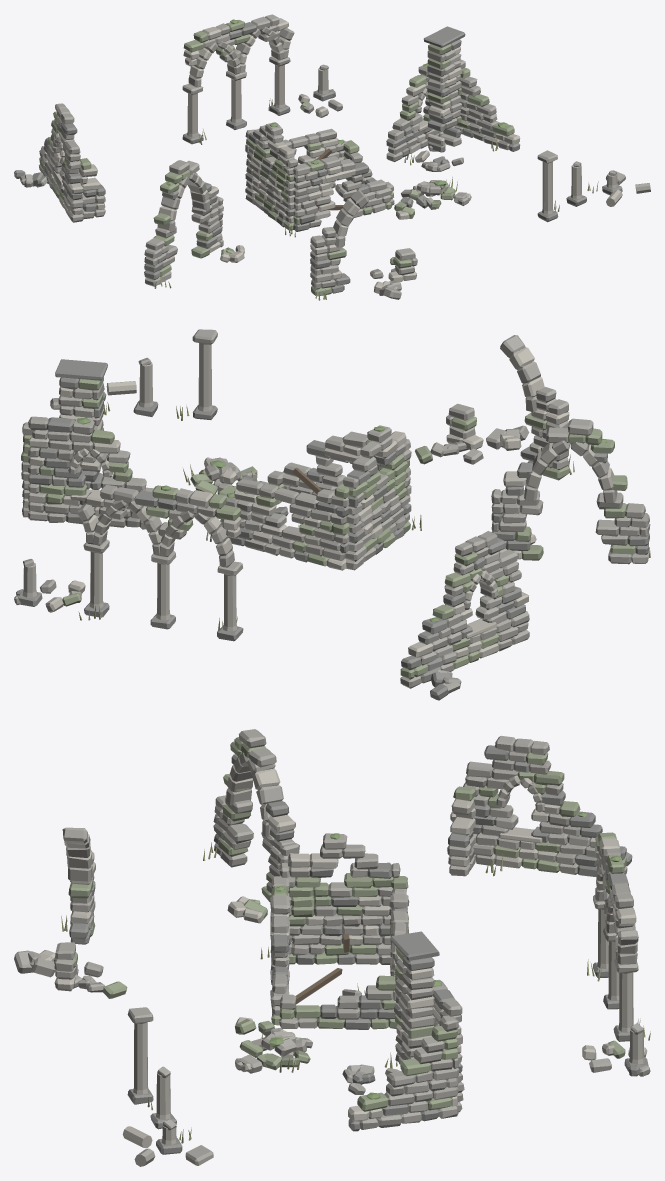
The model's file is Ruins_Scene.fbx.
The picture shows the model from 3 angles, top to bottom: view 1: azimuth 30°, elevation 25°; view 2: azimuth 150°, elevation 25°; view 3: azimuth 270°, elevation 25°; orthographic projection. The views are drawn at different scales.
Visible parts, largest first — view 1: Ruin_House_A, Ruin_House_B, Ruin_Arcade, Ruin_Arch_Gate, Ruin_Wall_Window, Ruin_Arch_Broken, Ruin_Columns, Ruin_Rubble; view 2: Ruin_House_A, Ruin_Arcade, Ruin_House_B, Ruin_Wall_Window, Ruin_Arch_Gate, Ruin_Arch_Broken, Ruin_Columns, Ruin_Rubble; view 3: Ruin_House_A, Ruin_Wall_Window, Ruin_House_B, Ruin_Arch_Gate, Ruin_Arcade, Ruin_Arch_Broken, Ruin_Columns, Ruin_Rubble.
Part boxes in pixels (left/top/right/bottom): Ruin_House_A: left=245, top=122, right=414, bottom=237; Ruin_House_B: left=386, top=26, right=520, bottom=171; Ruin_Arcade: left=182, top=14, right=342, bottom=144; Ruin_Arch_Gate: left=144, top=160, right=244, bottom=288; Ruin_Wall_Window: left=14, top=103, right=105, bottom=222; Ruin_Arch_Broken: left=310, top=190, right=417, bottom=300; Ruin_Columns: left=537, top=150, right=650, bottom=222; Ruin_Rubble: left=401, top=177, right=471, bottom=209; Ruin_House_A: left=206, top=425, right=421, bottom=570; Ruin_Arcade: left=14, top=484, right=243, bottom=641; Ruin_House_B: left=21, top=359, right=153, bottom=529; Ruin_Wall_Window: left=400, top=531, right=529, bottom=700; Ruin_Arch_Gate: left=491, top=418, right=650, bottom=564; Ruin_Arch_Broken: left=415, top=335, right=574, bottom=480; Ruin_Columns: left=50, top=329, right=217, bottom=420; Ruin_Rubble: left=183, top=457, right=257, bottom=494; Ruin_House_A: left=235, top=833, right=409, bottom=1036; Ruin_Wall_Window: left=447, top=735, right=632, bottom=877; Ruin_House_B: left=342, top=931, right=464, bottom=1131; Ruin_Arch_Gate: left=203, top=729, right=299, bottom=923; Ruin_Arcade: left=582, top=832, right=650, bottom=1076; Ruin_Arch_Broken: left=14, top=827, right=127, bottom=998; Ruin_Columns: left=122, top=1007, right=213, bottom=1166; Ruin_Rubble: left=235, top=1030, right=312, bottom=1073.
Size of the model in its own units: 22.89 by 5.31 by 19.21.
